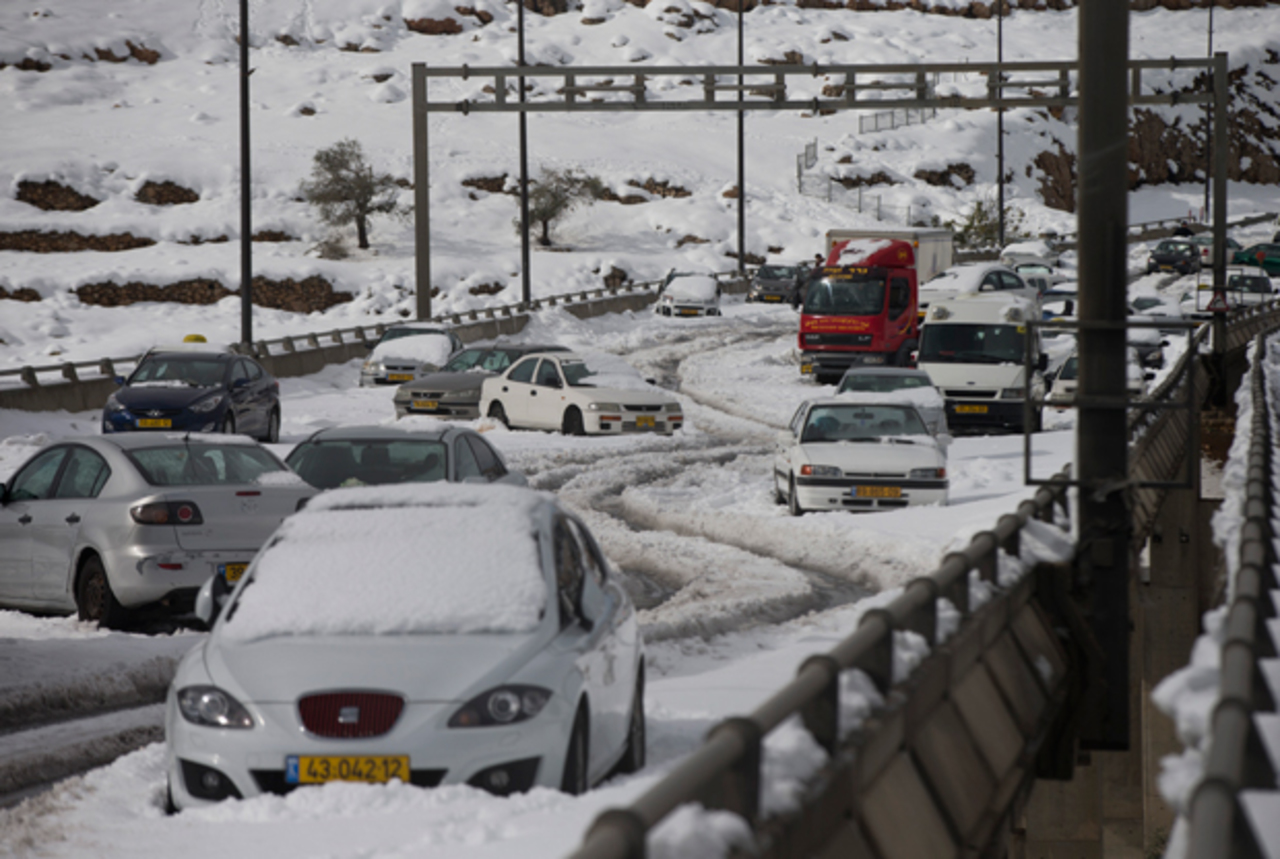car: (157, 486, 664, 804), (0, 429, 318, 631), (771, 397, 951, 517), (457, 344, 682, 438), (284, 420, 522, 499), (102, 345, 283, 441), (915, 310, 1045, 433), (398, 339, 559, 418), (934, 259, 1043, 314), (362, 327, 458, 386), (658, 272, 722, 318), (746, 261, 802, 306), (1148, 239, 1199, 272)
truck: (798, 242, 931, 386)
